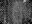person: (23, 0, 27, 4)
